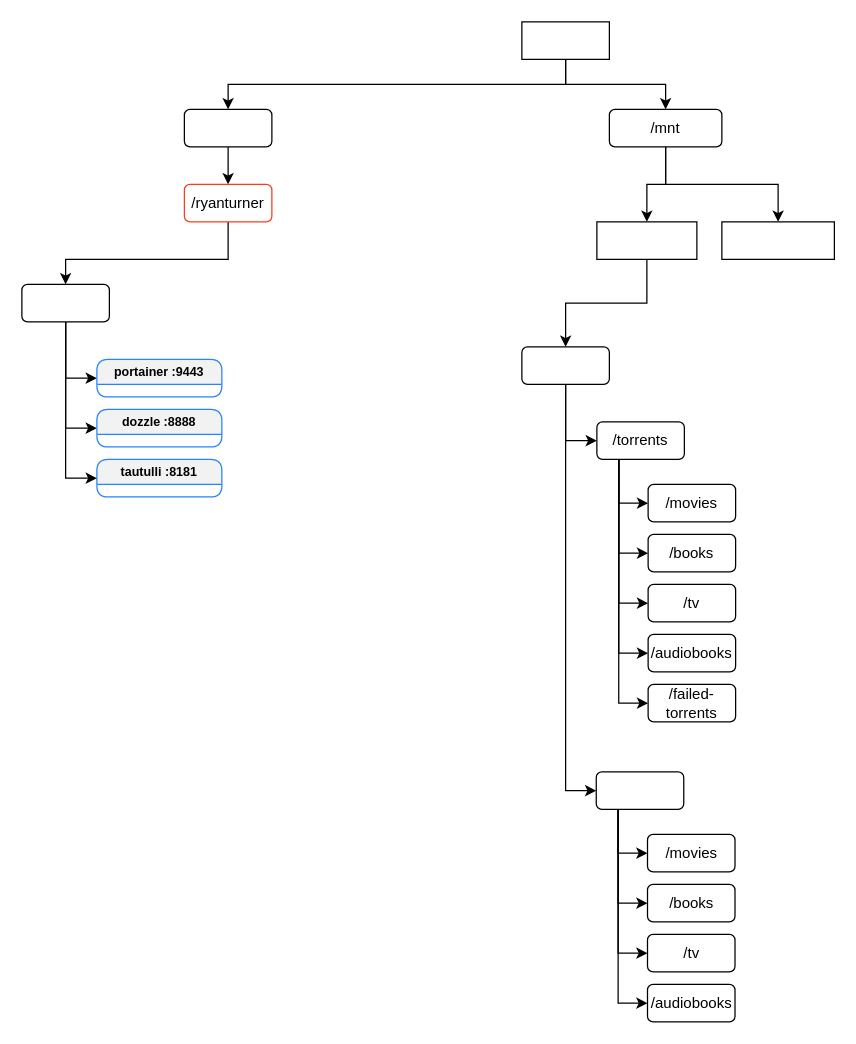
The diagram is 856 pixels wide and 1044 high, and some of its shapes have lost their labels. Here are the shapes that lost their labels. From the top down, the centre of each, then its label:
the point at 565,40: / [931G]
the point at 227,127: /home
the point at 646,240: /hh2 [3.6T]
the point at 777,240: /hdd1 [1.4T]
the point at 65,302: /docker
the point at 565,365: /data
the point at 639,790: /media
